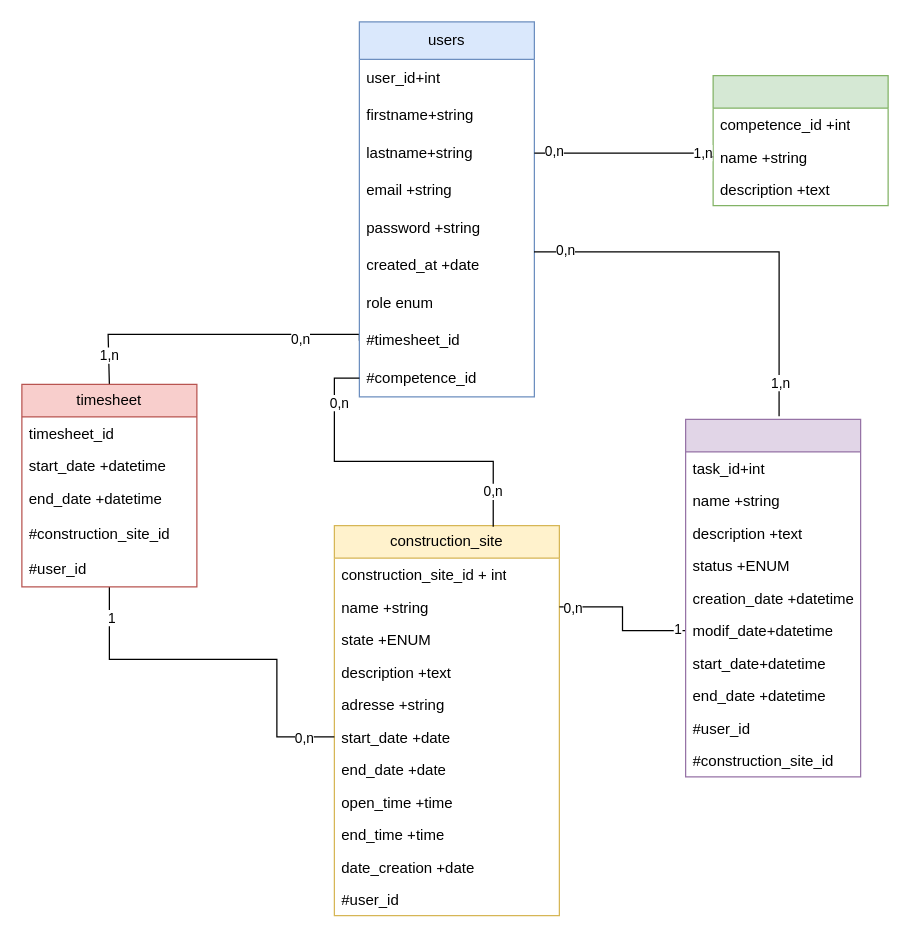
The diagram is 910 pixels wide and 941 high, and some of its shapes have lost their labels. The box of each missing label's shape, as (x1, y1, x2, y2) in pixels:
competences: (712, 74, 888, 206)
tasks: (684, 418, 861, 777)
